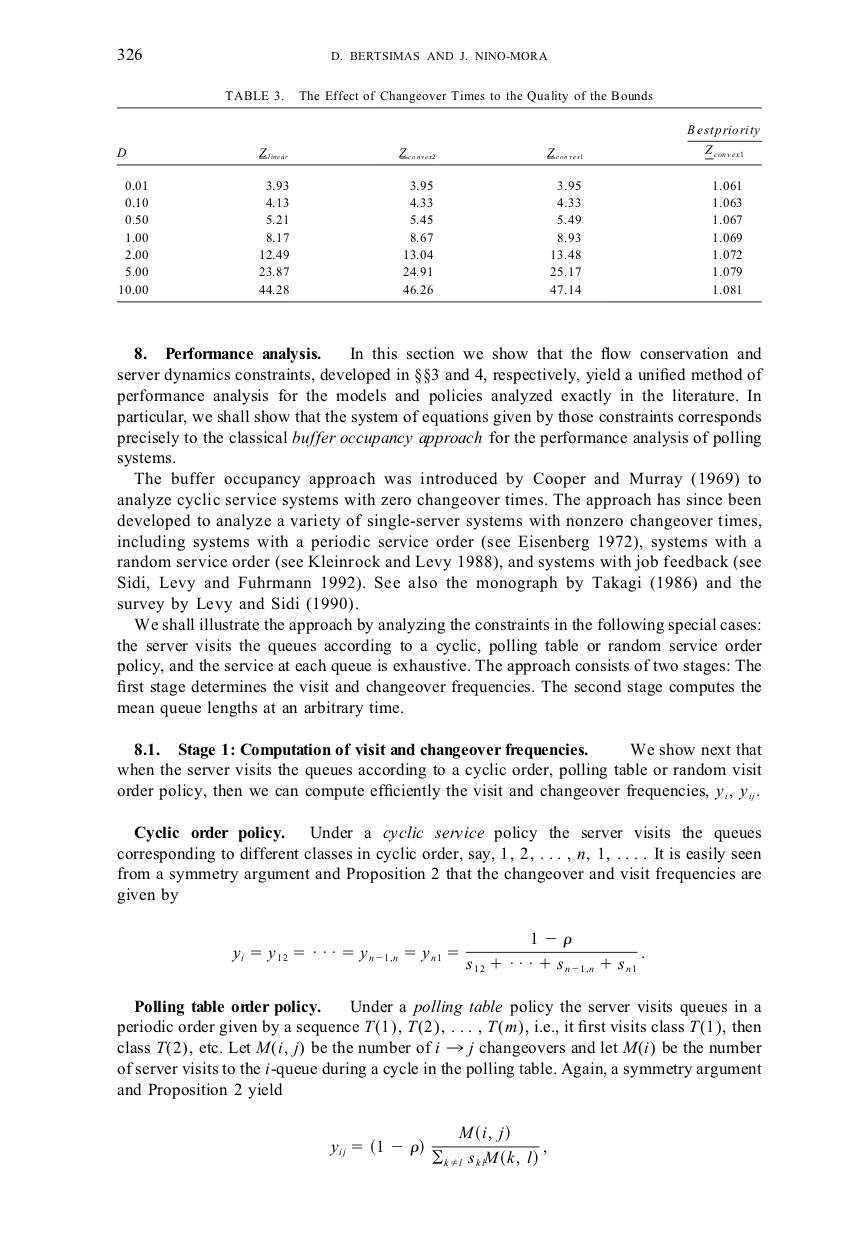Table: (116, 107, 761, 302)
formula: (231, 932, 643, 973), (329, 1124, 546, 1166)
